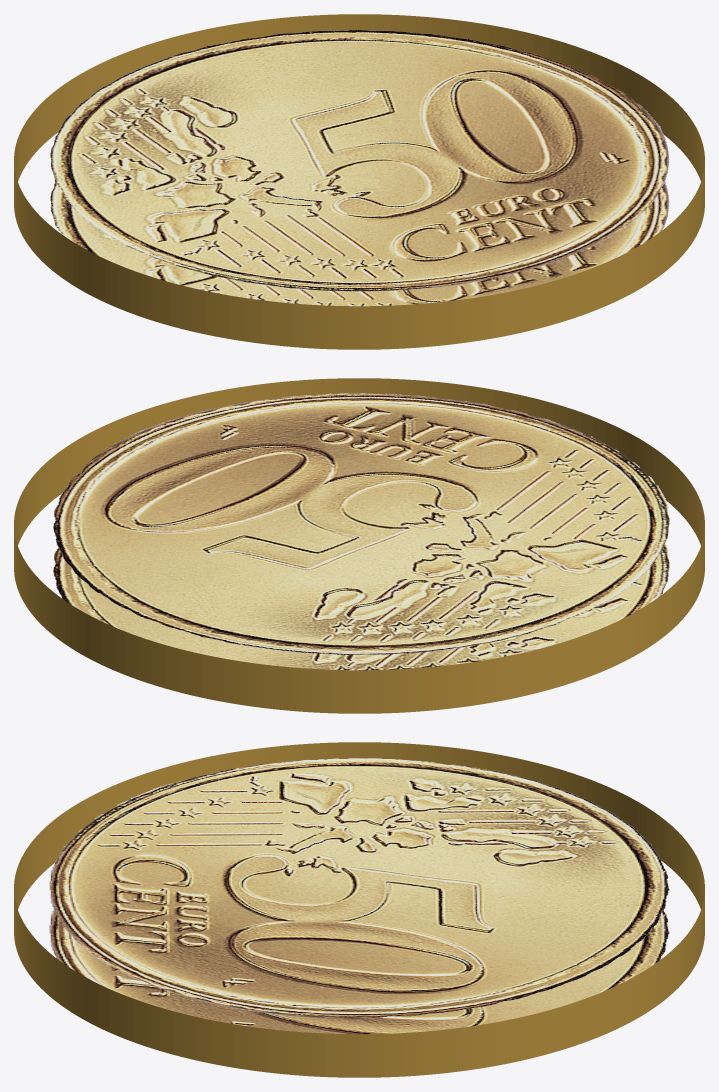
Rendered from 50Cent.obj.
3 renders of one model, top to bottom at view 1: azimuth 30°, elevation 25°; view 2: azimuth 150°, elevation 25°; view 3: azimuth 270°, elevation 25°, orthographic.
Parts seen in each view (by area): view 1: Circle; view 2: Circle; view 3: Circle.
Part boxes in pixels (<box>): Circle: <box>14,14,704,349</box>; Circle: <box>14,378,704,713</box>; Circle: <box>14,742,704,1077</box>.
Size of the model in its own units: 2 by 0.1389 by 2.
Materials: 3 (2 with a texture image).
